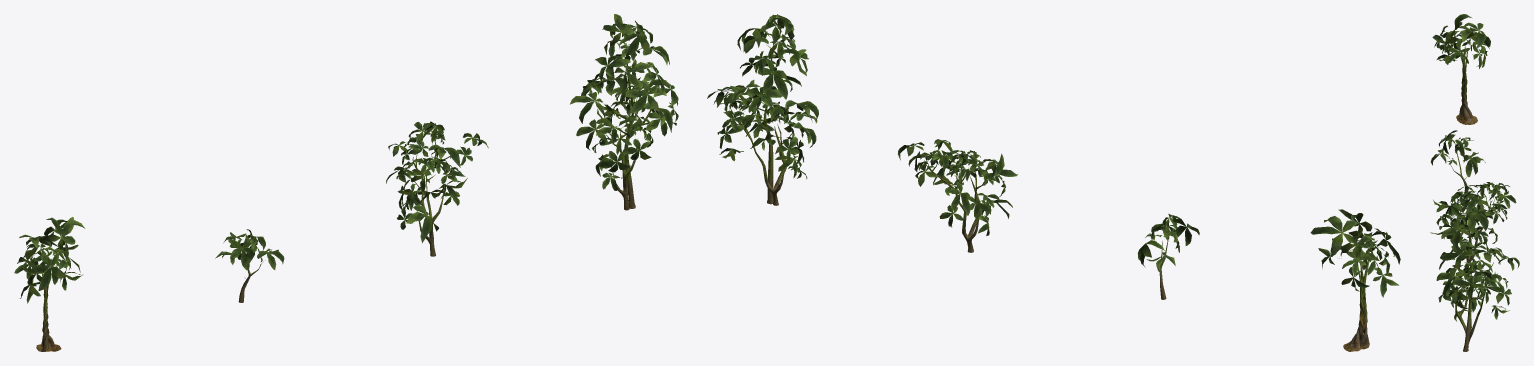
The model's file is pachira_aquatica_01.glb.
3 views of the same model, side by side, from view 1: azimuth 30°, elevation 25°; view 2: azimuth 150°, elevation 25°; view 3: azimuth 270°, elevation 25° (orthographic). The views are drawn at different scales.
Visible parts, largest first — view 1: pachira_aquatica_01_leaves_a, pachira_aquatica_01_bark_a; view 2: pachira_aquatica_01_leaves_a, pachira_aquatica_01_bark_a; view 3: pachira_aquatica_01_leaves_a, pachira_aquatica_01_bark_a.
Boxes of the visible parts, x1,y1,x2,y2 form: pachira_aquatica_01_leaves_a: (14, 14, 678, 303); pachira_aquatica_01_bark_a: (36, 43, 653, 351); pachira_aquatica_01_leaves_a: (707, 14, 1400, 297); pachira_aquatica_01_bark_a: (729, 43, 1369, 351); pachira_aquatica_01_leaves_a: (1430, 14, 1519, 321); pachira_aquatica_01_bark_a: (1450, 50, 1498, 351).
Bounding box in the file's own units: 6.87 × 1.9 × 0.997.
Materials: 2 (2 with a texture image).
